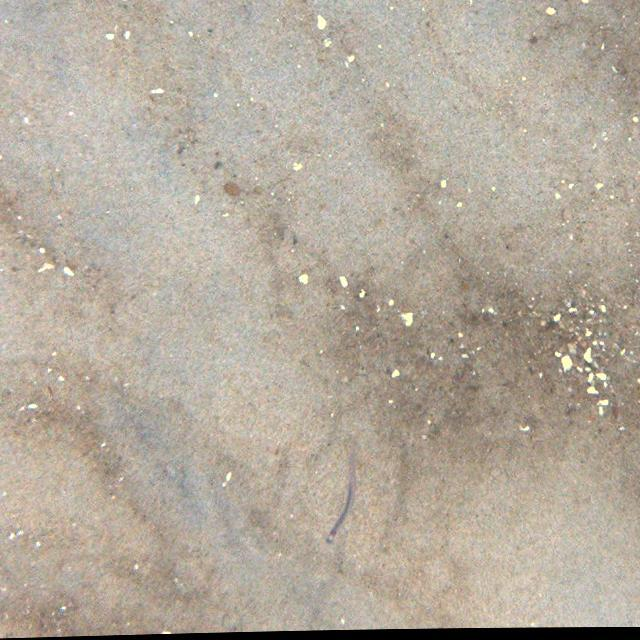roundfish: (326, 452, 364, 552)
